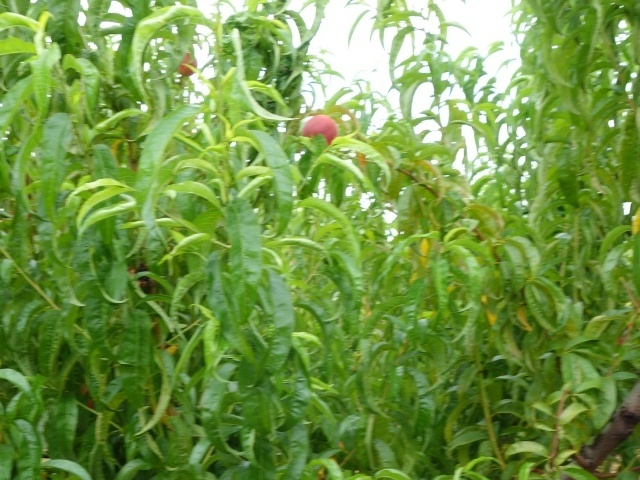peach: (298, 111, 341, 149), (174, 49, 202, 79)
